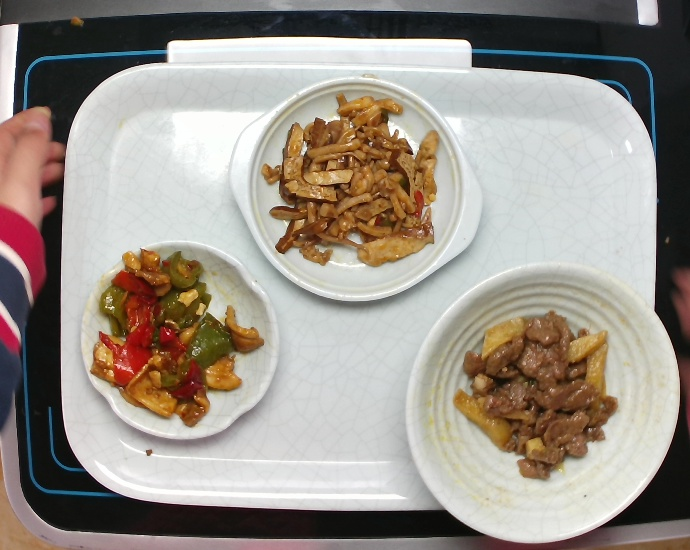JYsf-Ao_Yuan_Wan: (78, 236, 282, 441)
JYsf-Shuang_Er_Pan: (227, 79, 484, 303)
JYsf-Xiao_Tang_Wan: (409, 254, 686, 550)
